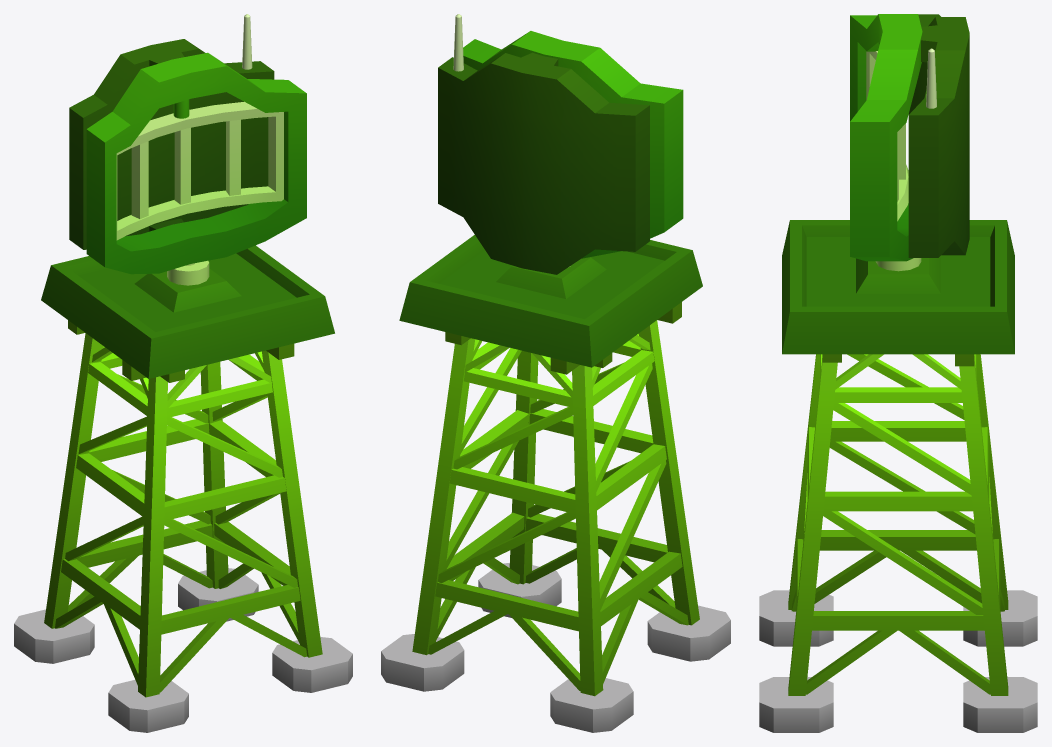
File: Prop_Army_Radar_02.fbx
3 renders of one model, left to right at view 1: azimuth 30°, elevation 25°; view 2: azimuth 150°, elevation 25°; view 3: azimuth 270°, elevation 25°, orthographic. The views are drawn at different scales.
Parts seen in each view (by area): view 1: Prop_Army_Radar_02, Prop_Army_Radar_02.001; view 2: Prop_Army_Radar_02, Prop_Army_Radar_02.001; view 3: Prop_Army_Radar_02, Prop_Army_Radar_02.001.
Boxes of the visible parts, x1,y1,x2,y2 form: Prop_Army_Radar_02: (14,245,352,732); Prop_Army_Radar_02.001: (69,14,306,274); Prop_Army_Radar_02: (381,235,730,732); Prop_Army_Radar_02.001: (438,14,683,274); Prop_Army_Radar_02: (759,220,1037,732); Prop_Army_Radar_02.001: (850,14,969,261).
Bounding box in the file's own units: 204 × 539 × 204.
